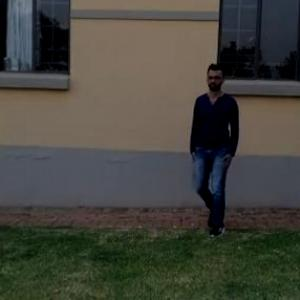follow: (189, 63, 238, 231)
